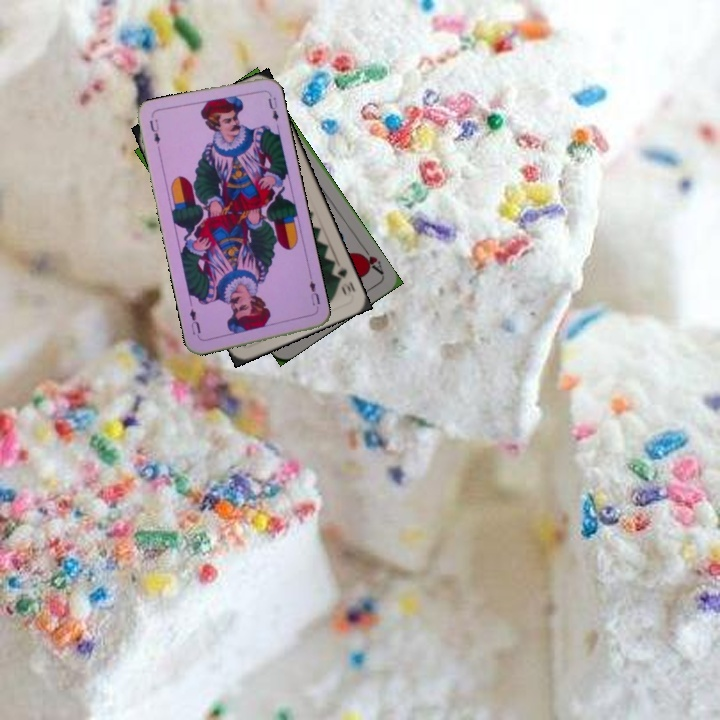EU: (305, 273, 323, 314), (145, 115, 163, 146)
G10: (331, 265, 358, 299)
HA: (354, 242, 387, 278)
